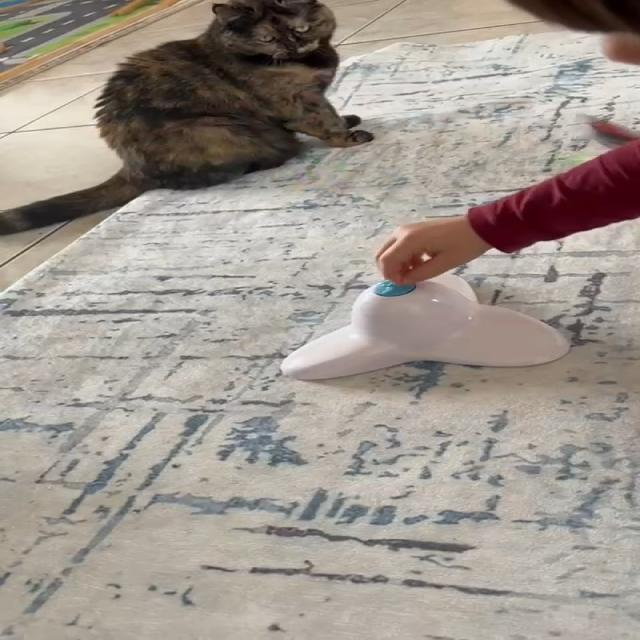authorized: (0, 0, 373, 236)
